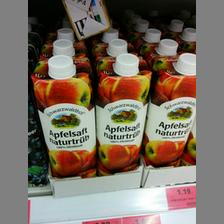Saft: (31, 54, 97, 176), (93, 52, 150, 174), (144, 52, 196, 164)
